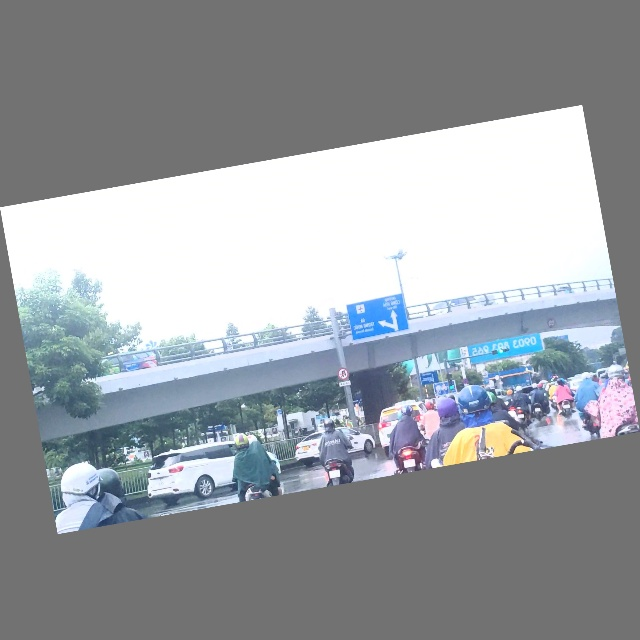P.124b1: (336, 368, 350, 383)
